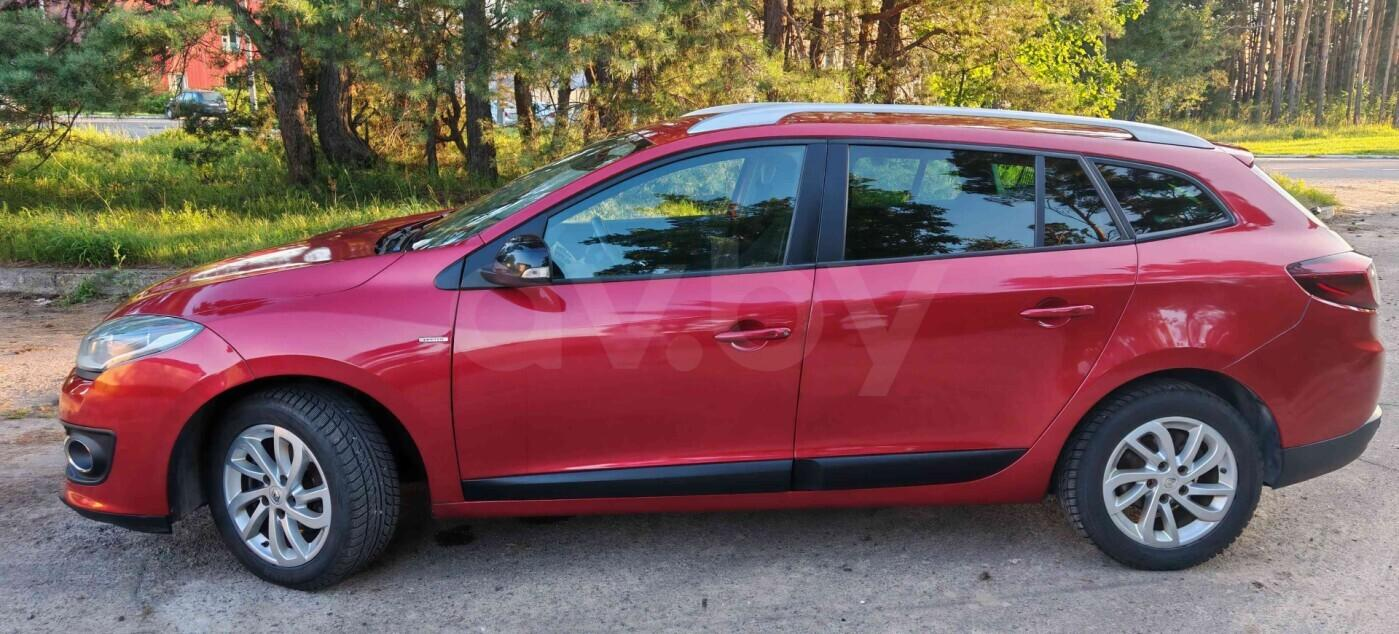Megane_2012-2014: (56, 101, 1386, 581)
